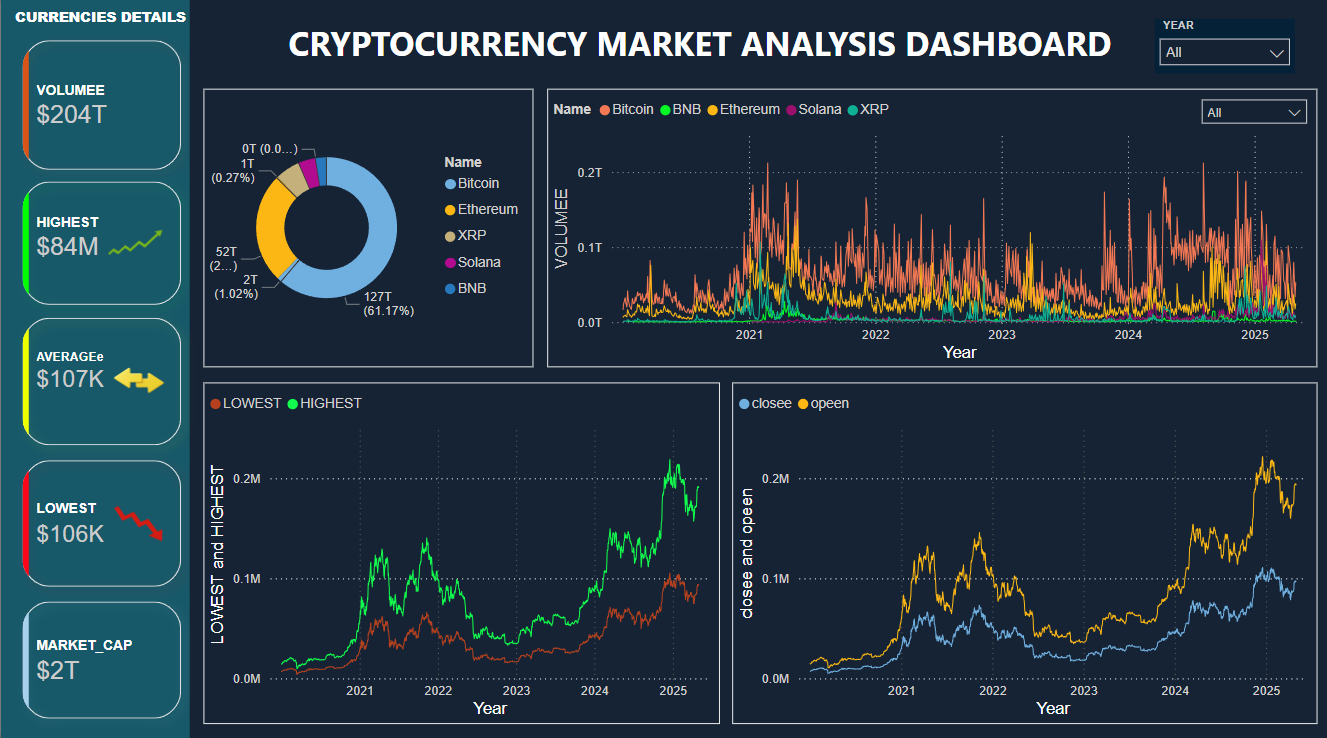

This screenshot's page, from the dashboard's own definition file:
{"tool":"powerbi","page":{"name":"Page 1","canvas":[1280,720],"ordinal":0},"visuals":[{"type":"shape","box":[0,0,182.2,720.2],"z":0},{"type":"cardVisual","fields":{"Data":["cryptodashboard.HIGHEST"]},"box":[0,159.3,195.4,161.7],"z":1000},{"type":"cardVisual","fields":{"Data":["cryptodashboard.VOLUMEE"]},"box":[0,22.9,195.4,167.7],"z":2000},{"type":"cardVisual","fields":{"Data":["cryptodashboard.AVERAGEe"]},"box":[0,290.8,195.4,165.3],"z":3000},{"type":"cardVisual","fields":{"Data":["cryptodashboard.LOWEST"]},"box":[0,428.3,195.4,164.1],"z":4000},{"type":"cardVisual","fields":{"Data":["cryptodashboard.MARKET_CAP"]},"box":[0,564.6,195.4,155.6],"z":5000},{"type":"slicer","fields":{"Values":["DATE.year"]},"box":[1113.5,22.9,135.1,53.1],"z":6000},{"type":"lineChart","fields":{"Y":["cryptodashboard.VOLUMEE"],"Series":["cryptodashboard.Name"],"Category":["DATE.Date.Variation.Date Hierarchy.Year","DATE.Date.Variation.Date Hierarchy.Month","DATE.Date.Variation.Date Hierarchy.Day"]},"box":[527.2,90.5,743.2,269],"z":7000},{"type":"stackedAreaChart","fields":{"Category":["DATE.Date.Variation.Date Hierarchy.Year","DATE.Date.Variation.Date Hierarchy.Month","DATE.Date.Variation.Date Hierarchy.Day"],"Y":["cryptodashboard.LOWEST","cryptodashboard.HIGHEST"]},"box":[195.4,374,498.3,329.4],"z":8000},{"type":"stackedAreaChart","fields":{"Category":["DATE.Date.Variation.Date Hierarchy.Year","DATE.Date.Variation.Date Hierarchy.Month","DATE.Date.Variation.Date Hierarchy.Day"],"Y":["DATE.closee","DATE.opeen"]},"box":[705.8,374,564.6,329.4],"z":9000},{"type":"donutChart","fields":{"Y":["cryptodashboard.VOLUMEE","cryptodashboard.MARKET_CAP"],"Category":["cryptodashboard.Name"]},"box":[195.4,90.5,318.5,269],"z":10000},{"type":"slicer","fields":{"Values":["Parameter 2.Parameter"]},"box":[1148.5,90.5,121.9,37.4],"z":11000},{"type":"textbox","box":[0,7.2,191.8,31.4],"z":12000},{"type":"textbox","box":[226.8,16.9,886.7,59.1],"z":14000}]}

Visuals, with their boxes in screenshot pixels (x1, y1, x2, y2), scaled from the page's 1280x720 canvas onto the 1327x738 screenshot:
shape: box=[0, 0, 189, 737]
cardVisual - cryptodashboard.HIGHEST: box=[0, 163, 203, 329]
cardVisual - cryptodashboard.VOLUMEE: box=[0, 23, 203, 195]
cardVisual - cryptodashboard.AVERAGEe: box=[0, 298, 203, 468]
cardVisual - cryptodashboard.LOWEST: box=[0, 439, 203, 607]
cardVisual - cryptodashboard.MARKET_CAP: box=[0, 579, 203, 737]
slicer - DATE.year: box=[1154, 23, 1294, 78]
lineChart - cryptodashboard.VOLUMEE x cryptodashboard.Name: box=[547, 93, 1317, 368]
stackedAreaChart - DATE.Date.Variation.Date Hierarchy.Year x DATE.Date.Variation.Date Hierarchy.Month: box=[203, 383, 719, 721]
stackedAreaChart - DATE.Date.Variation.Date Hierarchy.Year x DATE.Date.Variation.Date Hierarchy.Month: box=[732, 383, 1317, 721]
donutChart - cryptodashboard.VOLUMEE x cryptodashboard.MARKET_CAP: box=[203, 93, 533, 368]
slicer - Parameter 2.Parameter: box=[1191, 93, 1317, 131]
textbox: box=[0, 7, 199, 40]
textbox: box=[235, 17, 1154, 78]
